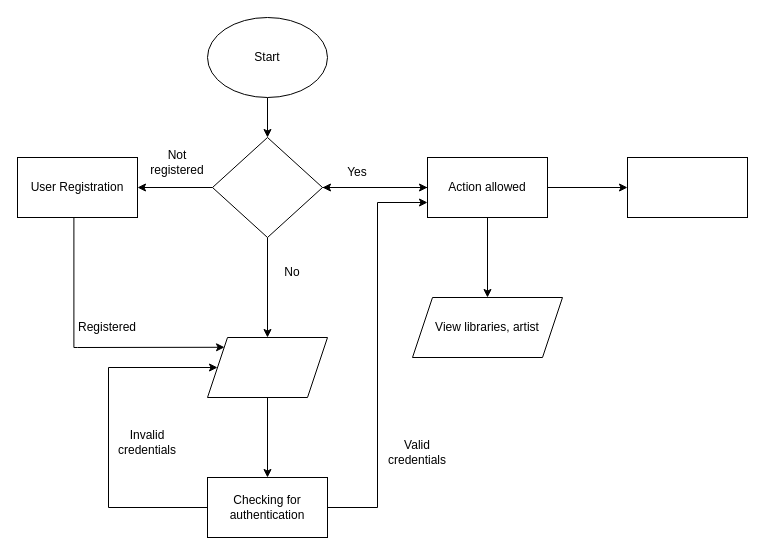
The diagram is 765 pixels wide and 555 high, and some of its shapes have lost their labels. Each missing label, with the box of its shape:
Create playlist: (626, 156, 748, 218)
Is user login?: (212, 136, 322, 238)
User log in credentials: (206, 336, 328, 398)
